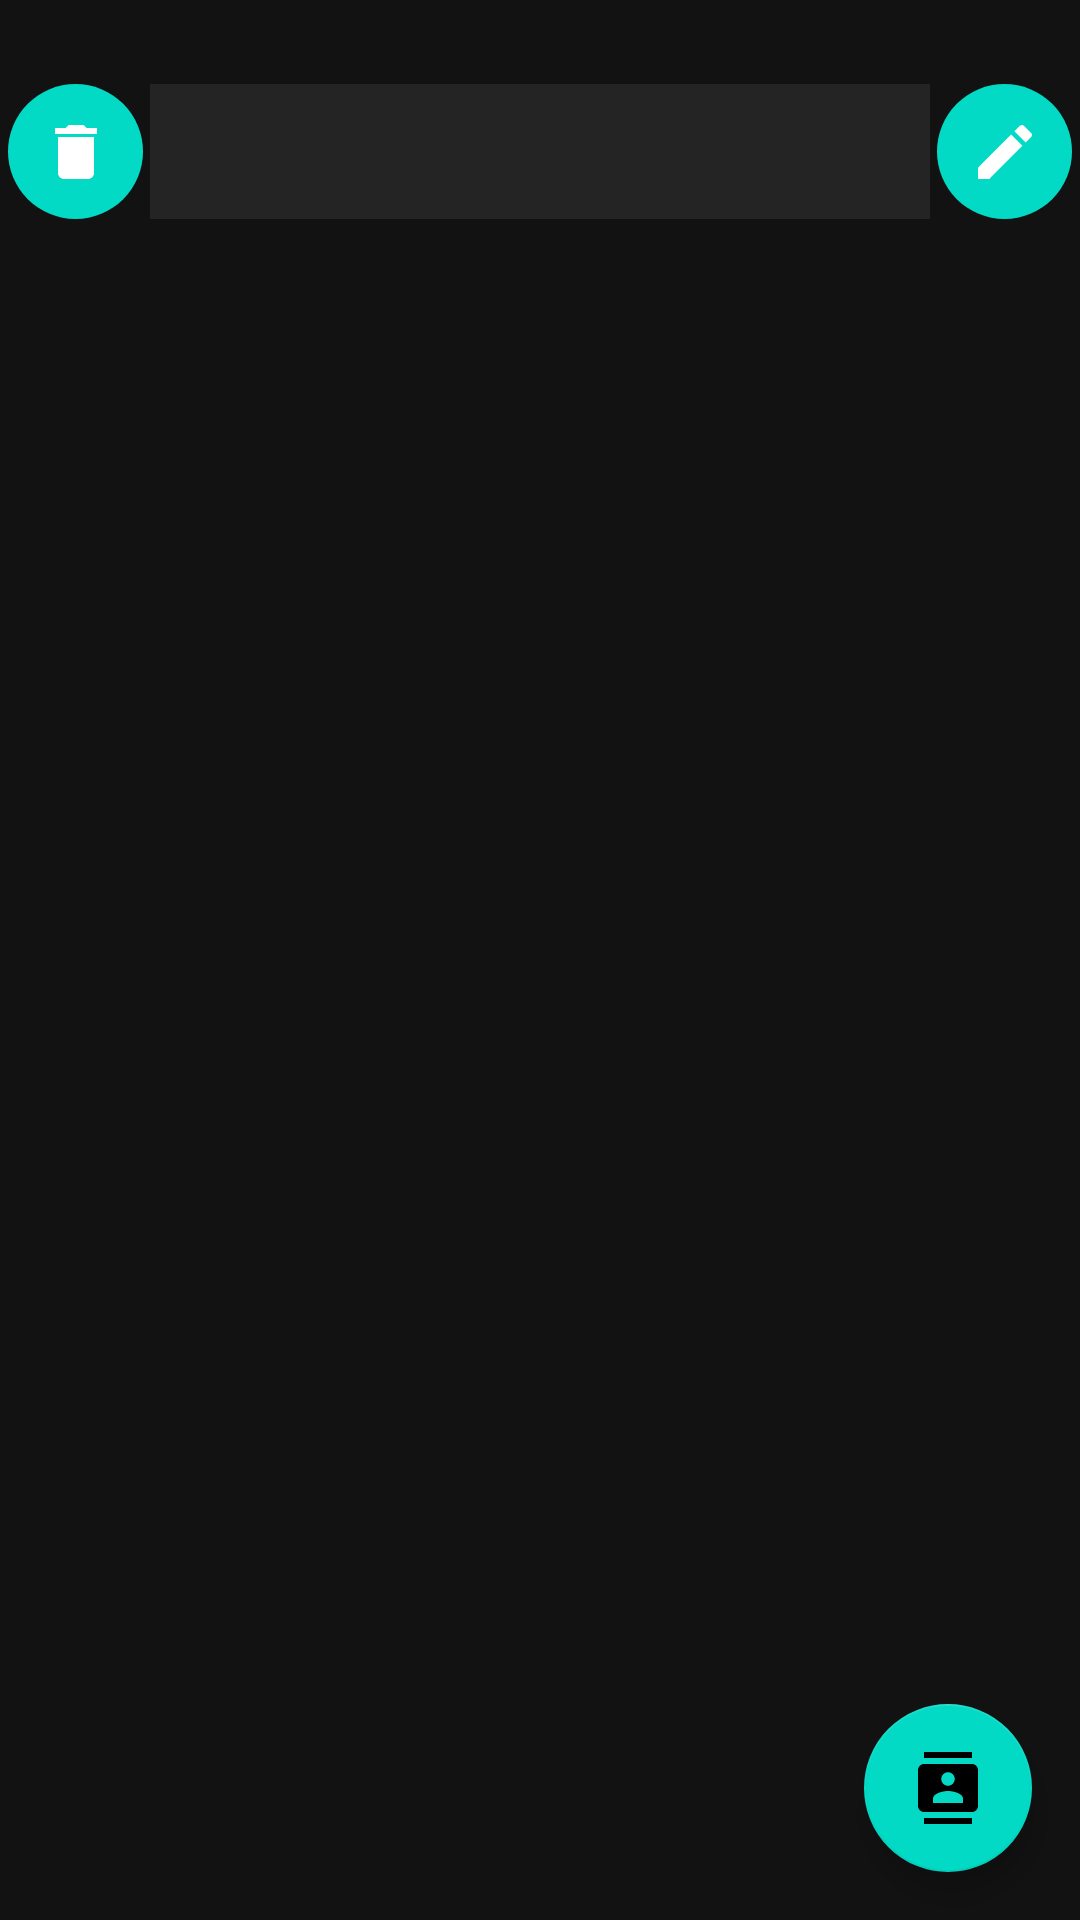

Named icons in this screenshot (1080x1920) and their bounding boxes, {"left": x1, "top": y1, "right": x2, "bottom": y2}:
contacts: {"left": 864, "top": 1704, "right": 1032, "bottom": 1872}
Pencil: {"left": 937, "top": 84, "right": 1072, "bottom": 219}
Trash can: {"left": 8, "top": 84, "right": 143, "bottom": 219}
